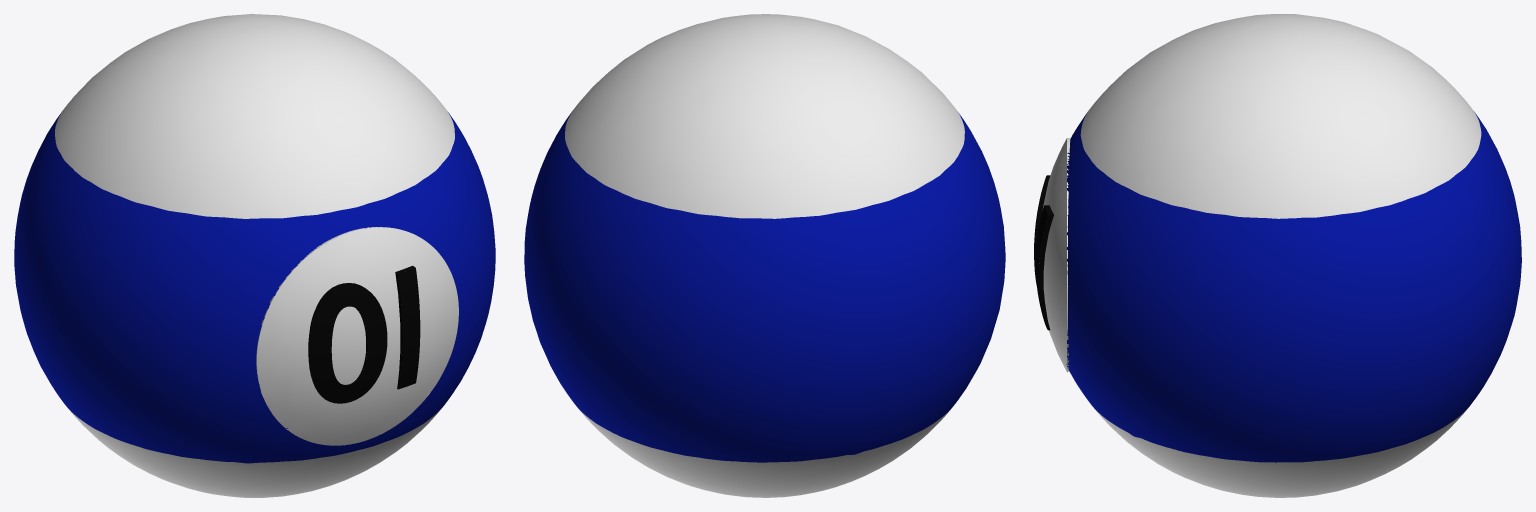
File: Pool.glb
The picture shows the model from 3 angles, left to right: view 1: azimuth 30°, elevation 25°; view 2: azimuth 150°, elevation 25°; view 3: azimuth 270°, elevation 25°; orthographic projection.
Parts seen in each view (by area): view 1: Sphere, Sphere.001, Text; view 2: Sphere; view 3: Sphere, Sphere.001, Text.
Part boxes in pixels (x1,y1,x2,y2): Sphere: [14, 14, 495, 497]; Sphere.001: [256, 227, 458, 445]; Text: [308, 265, 420, 403]; Sphere: [524, 14, 1005, 497]; Sphere: [1066, 14, 1521, 497]; Sphere.001: [1039, 138, 1070, 372]; Text: [1034, 175, 1053, 330].
Size of the model in its own units: 1.98 by 2 by 2.
